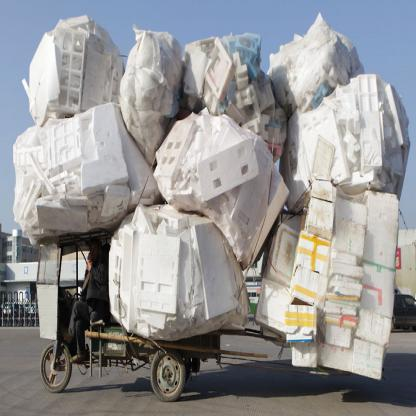overloaded-truck: (12, 1, 415, 383)
